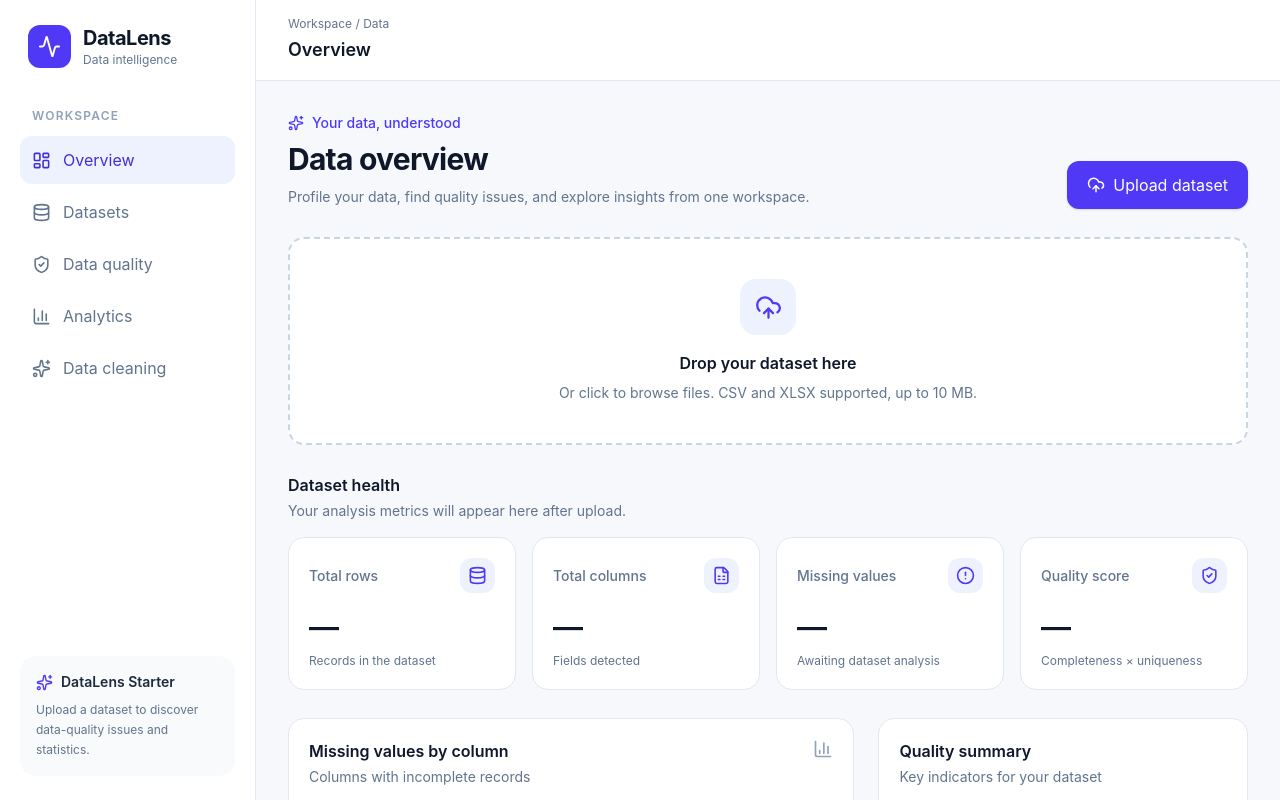
Test: DataLens dashboard › opens Analytics Studio when no dataset is uploaded
What coordinates should you click on to do the following:
click the button "Analytics"
I would click on:
 (128, 316)
Its box is [20,292,235,340].
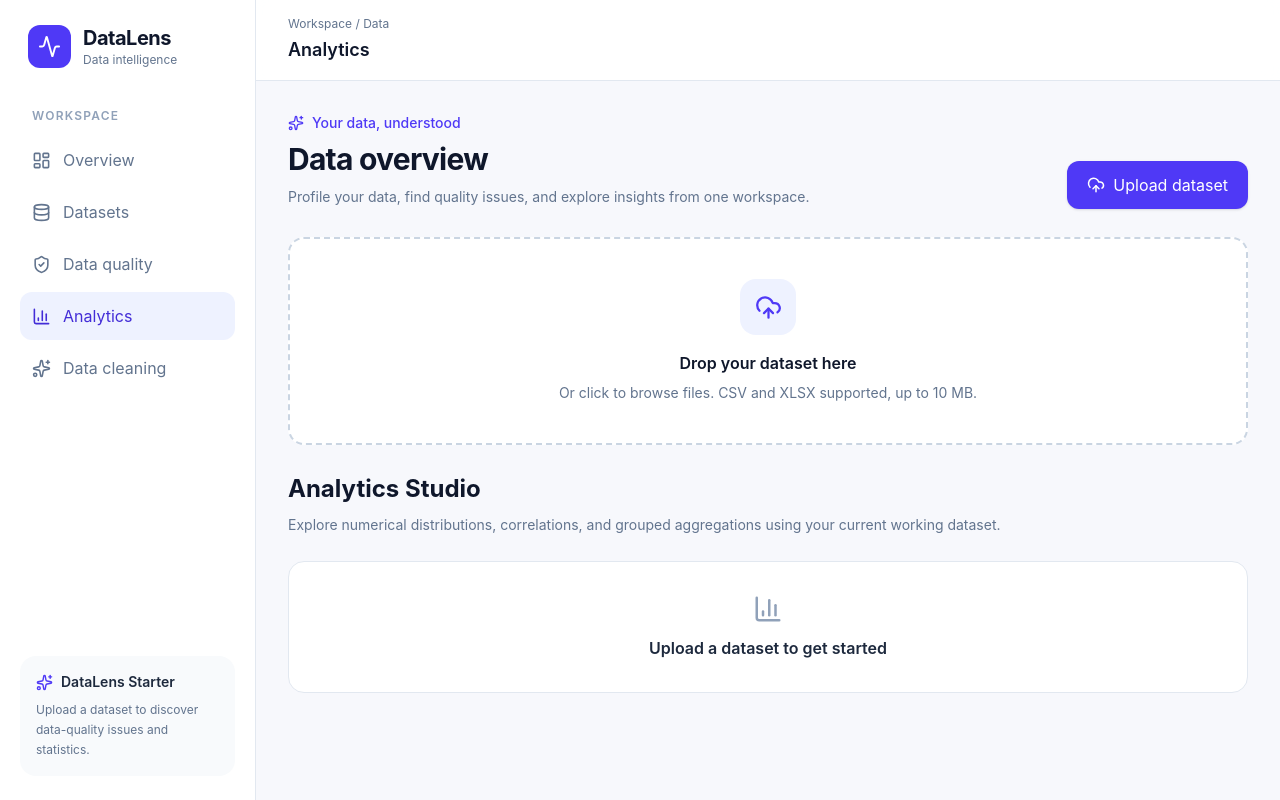
Now the heading "Analytics Studio" is shown, box [288,474,481,503]
Now the text "Upload a dataset to get started" is shown, box [649,638,887,658]
